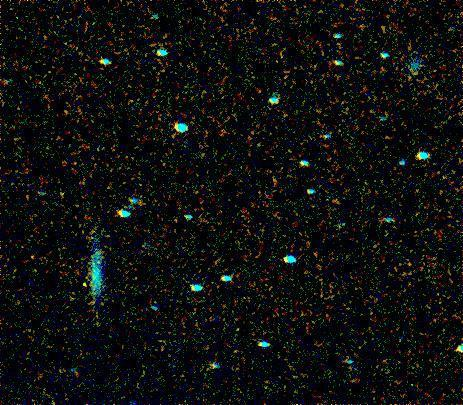star: (73, 270, 103, 300)
